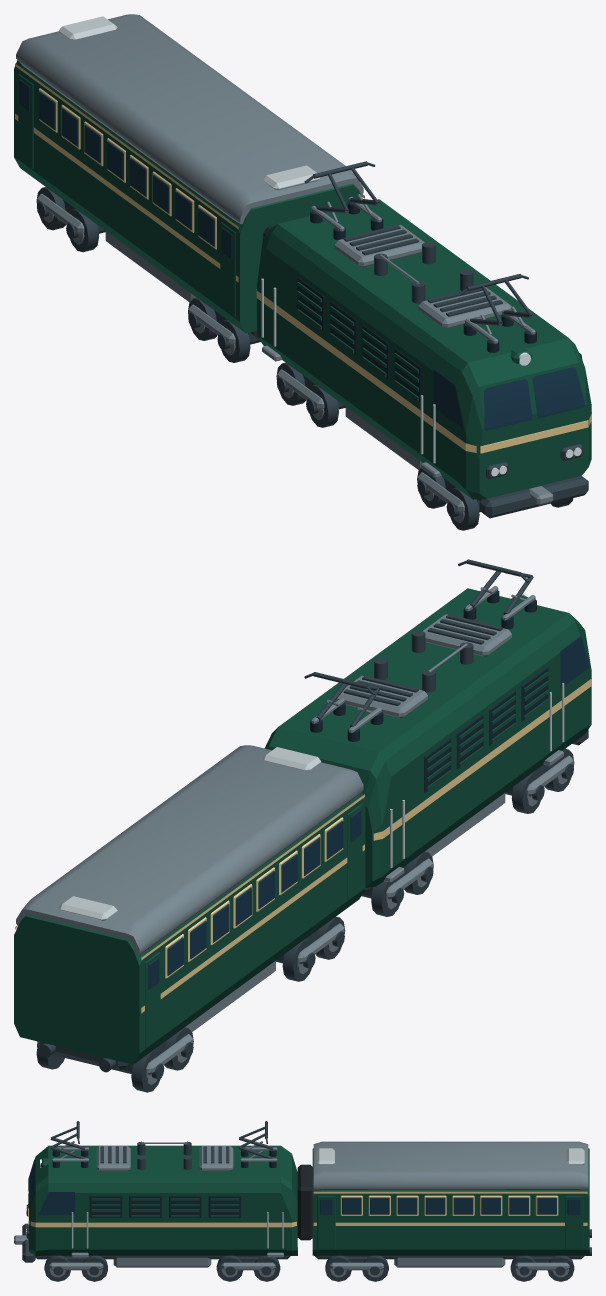
File: train.glb
3 renders of one model, top to bottom at view 1: azimuth 30°, elevation 25°; view 2: azimuth 150°, elevation 25°; view 3: azimuth 270°, elevation 25°, orthographic. The views are drawn at different scales.
Parts seen in each view (by area): view 1: train; view 2: train; view 3: train.
Boxes of the visible parts, <box> form: train: <box>14,14,591,530</box>; train: <box>14,559,591,1092</box>; train: <box>14,1121,591,1281</box>.
Bounding box in the file's own units: 1.97 × 3.21 × 12.25.
